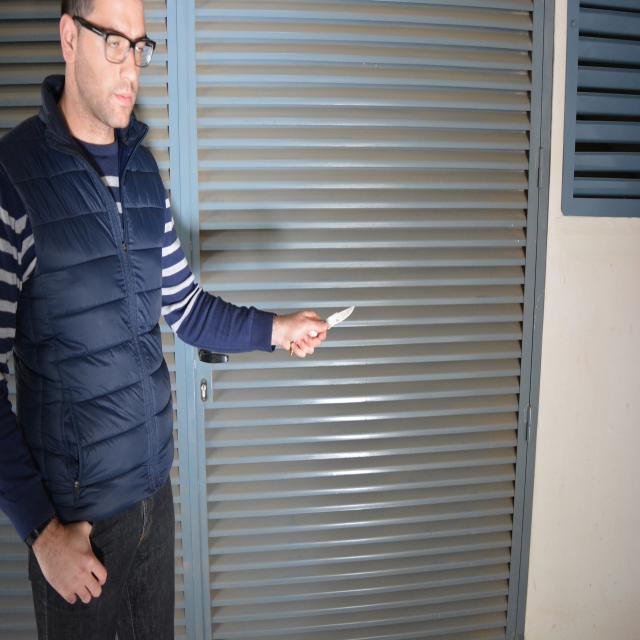knife: (318, 302, 360, 333)
